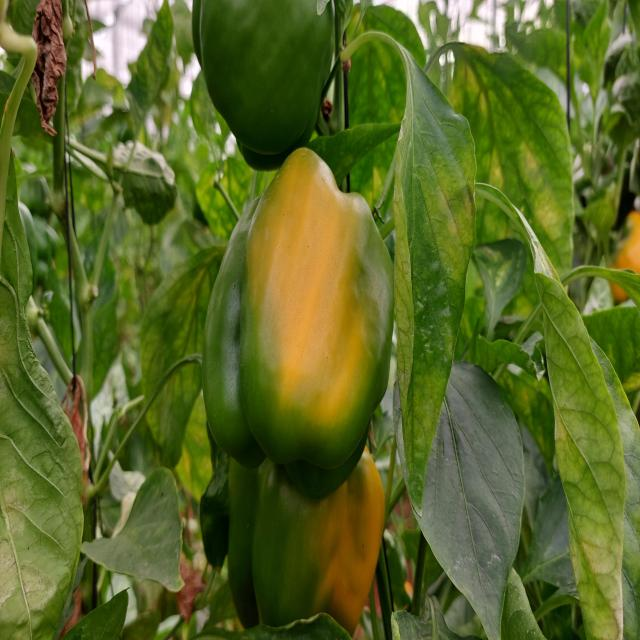Green--Not-ready-to-harvest: (198, 8, 339, 158)
GreenishYellow--Can-be-Harvested: (206, 167, 403, 502), (187, 438, 393, 629)
